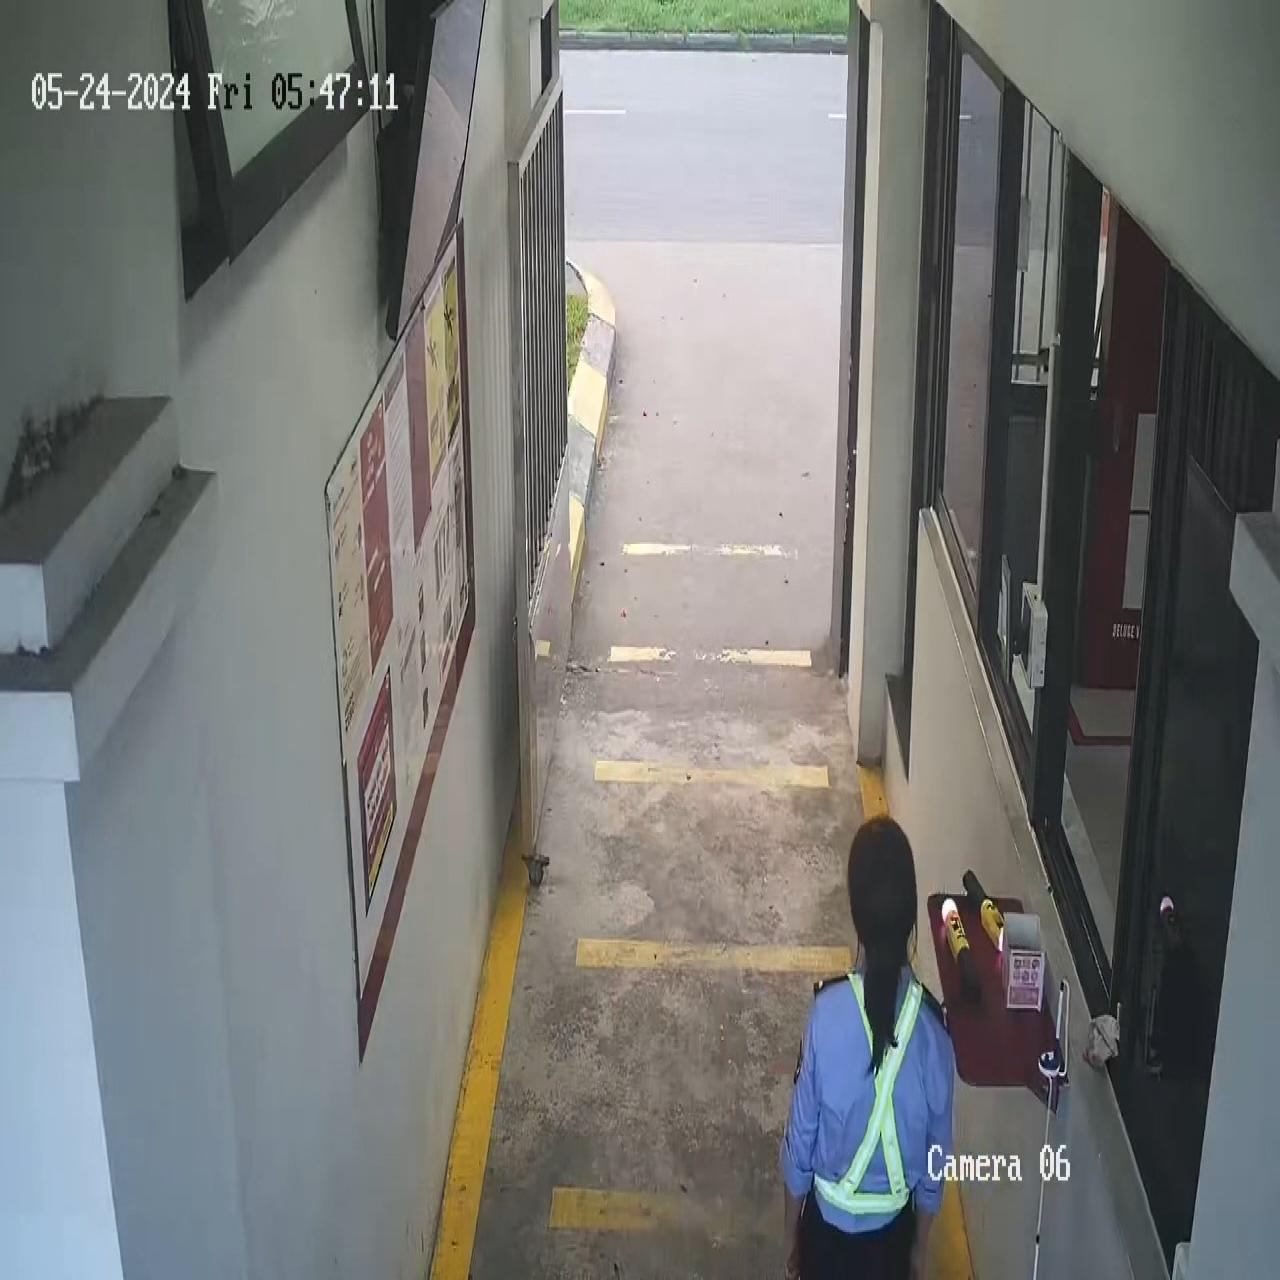breathalyzer: (935, 892, 976, 1008), (960, 869, 1001, 947)
guard: (779, 810, 956, 1276)
